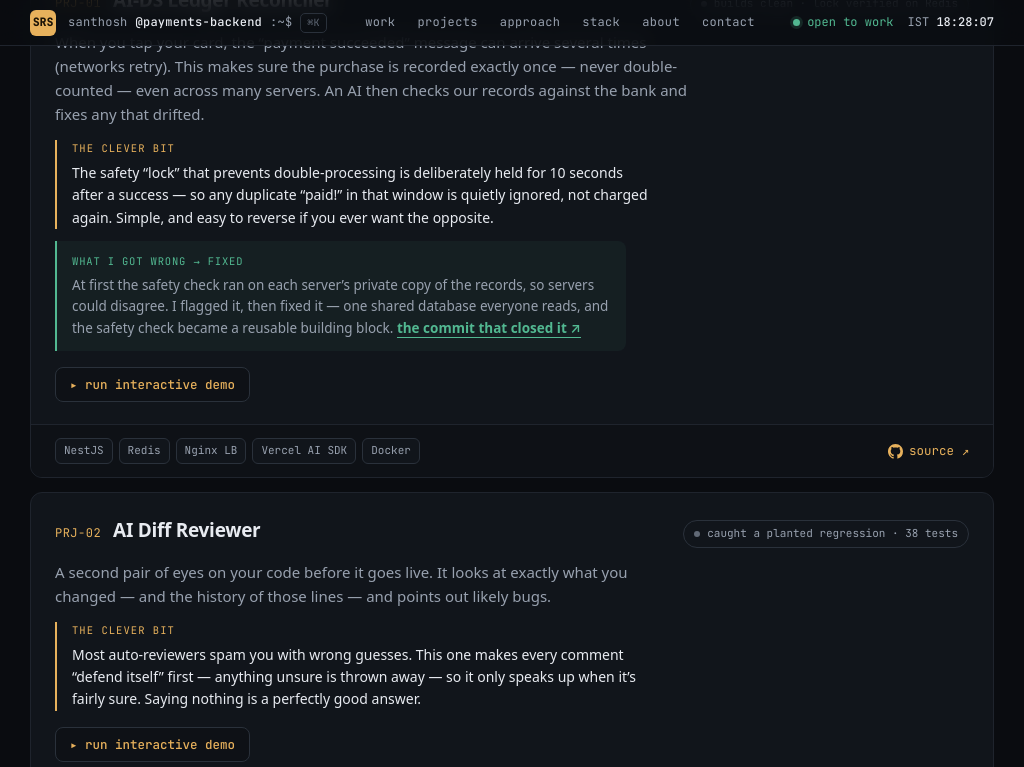
Test: ConcurrencyDemo (ledger reconciler) › closing the demo mid-run clears timers without errors
The width and height of the screenshot is (1024, 767).
(page scrolled)
Step 1. Click the button "▸ run interactive demo" below "the commit that closed it" → (152, 385), box [55,368,250,402]
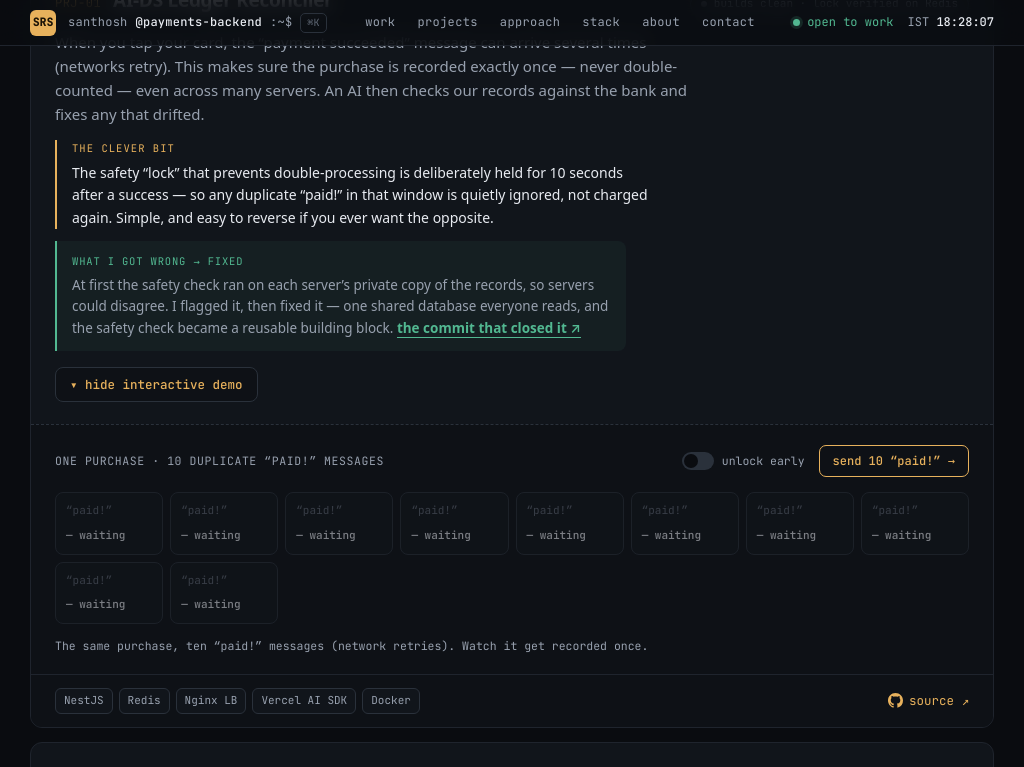
Step 2. Click the button "send 10 “paid!” →" → (894, 462), box [818,446,969,478]
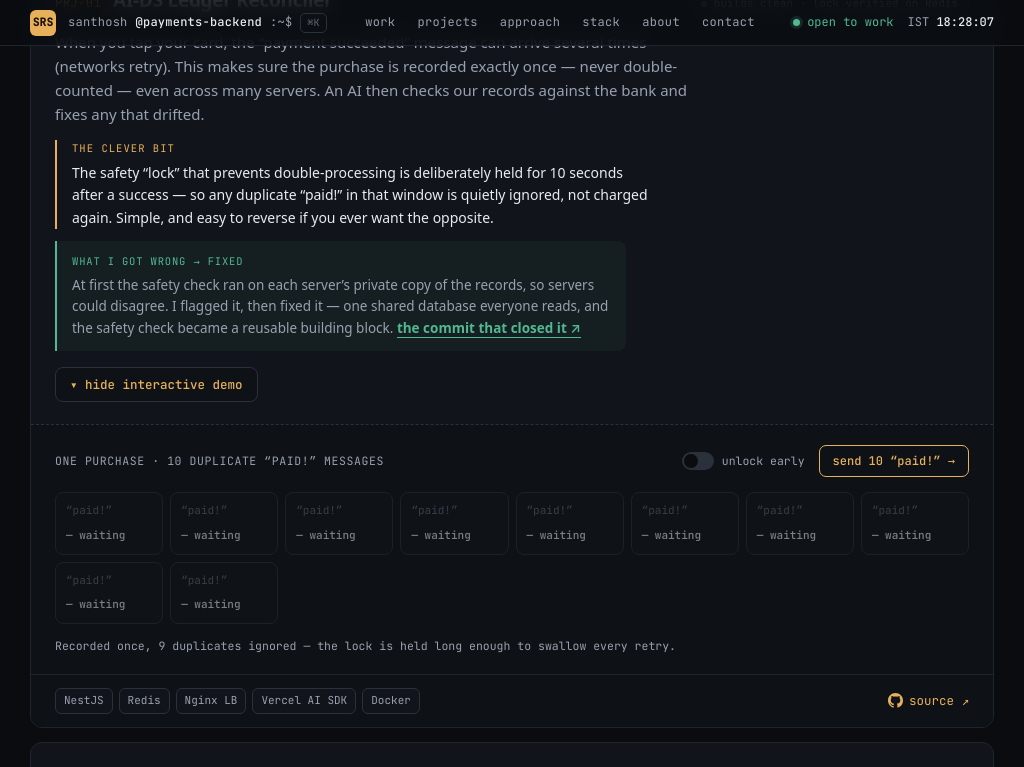
Step 3. Click the button "▾ hide interactive demo" → (156, 385), box [55,368,258,402]
Wait 2000 ms
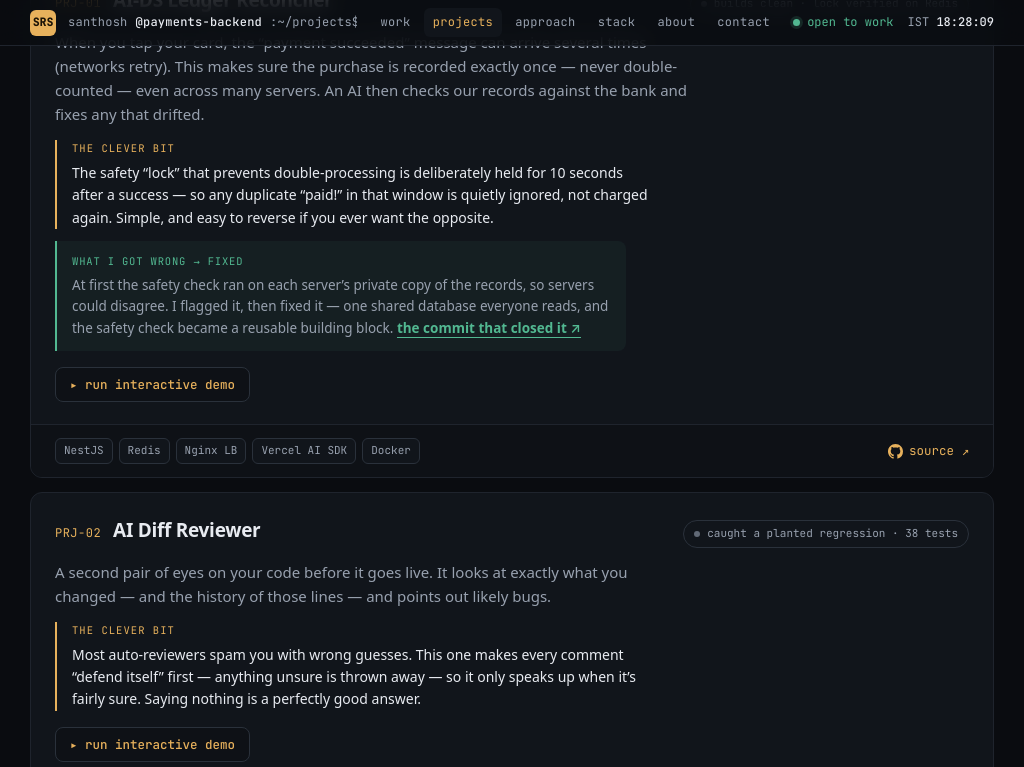
Now the element with class "demo" is gone
